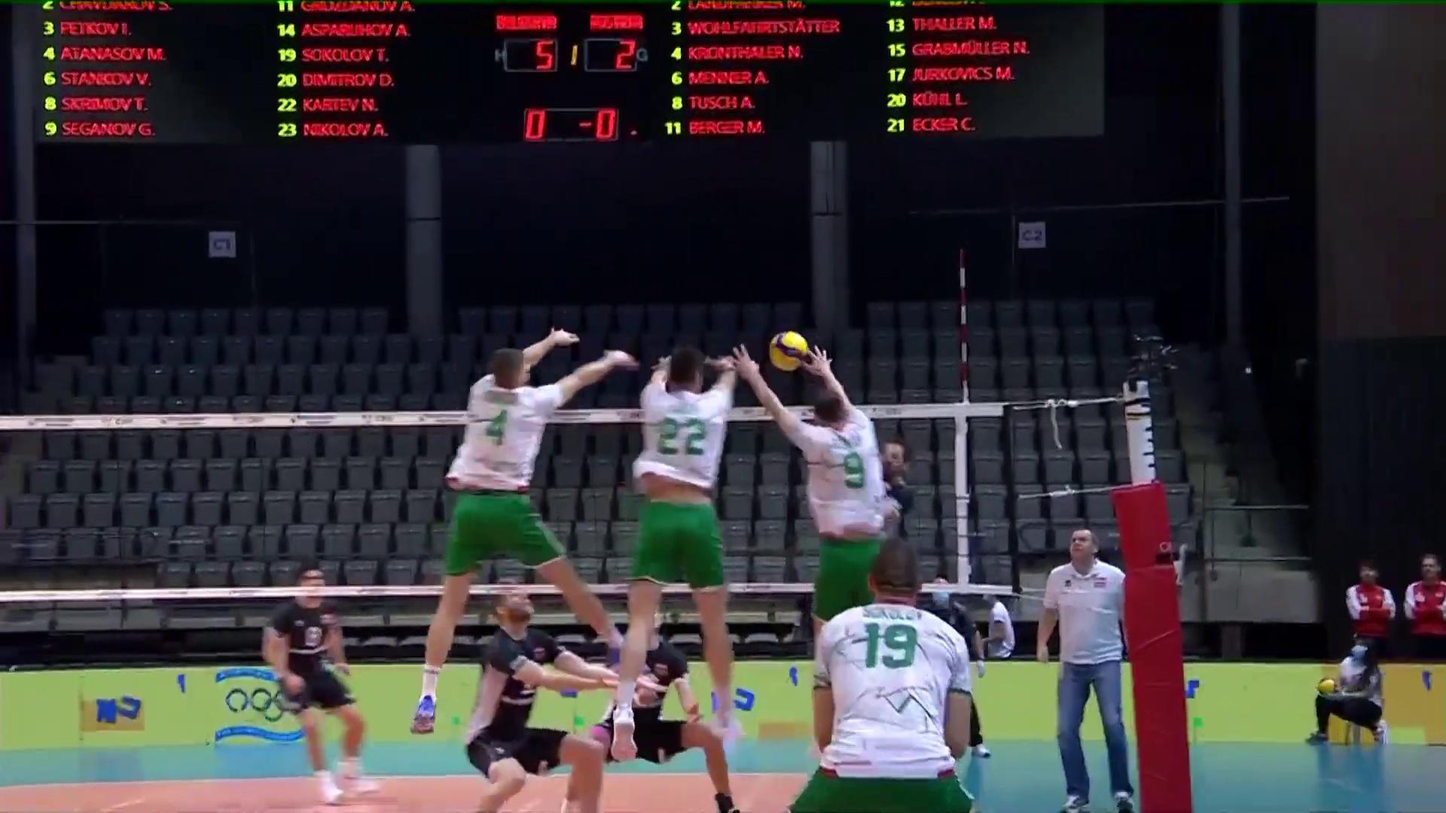ball: (767, 329, 809, 372)
